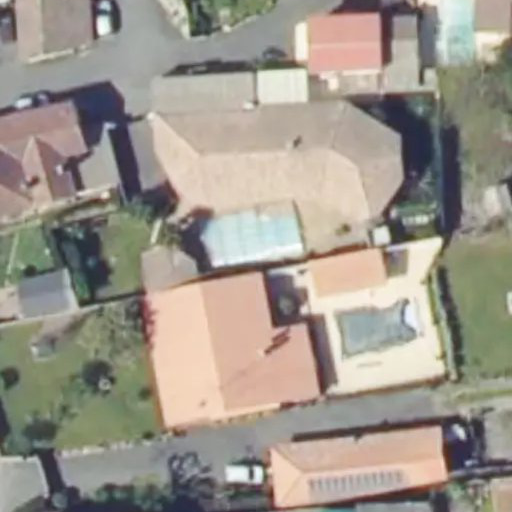pool: (196, 207, 303, 261)
